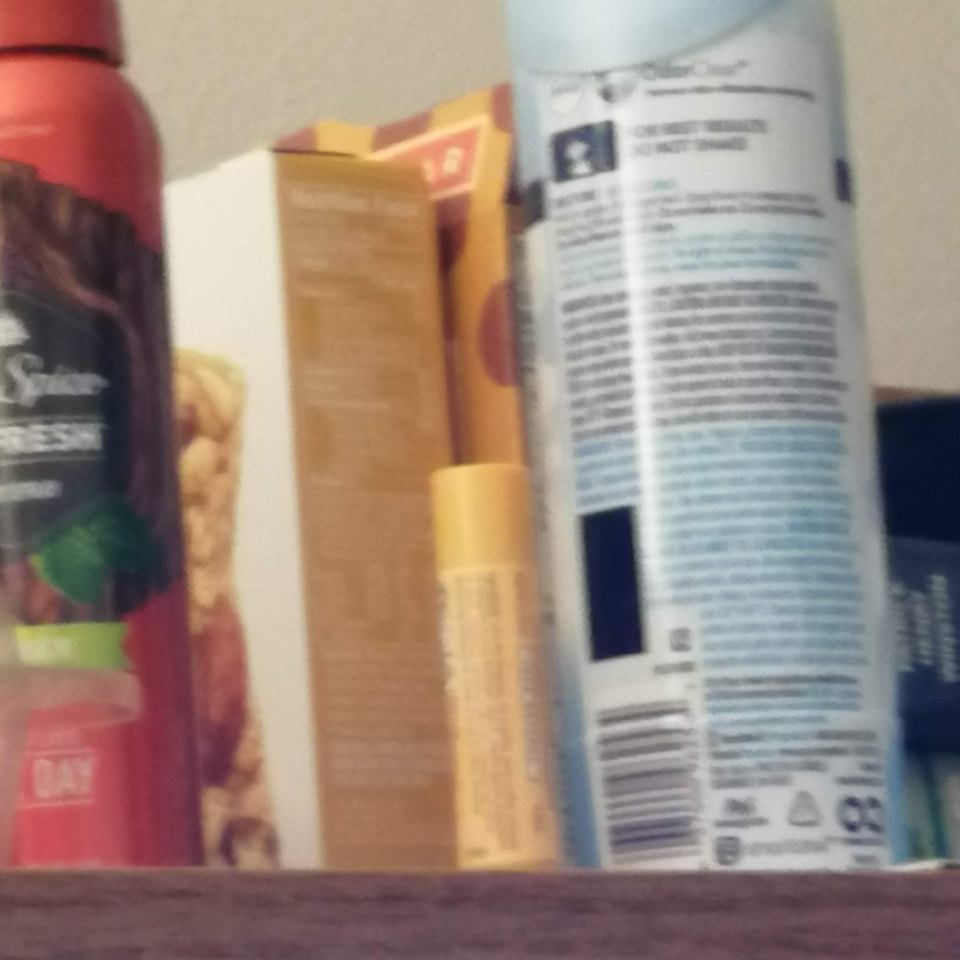chapstick: (428, 460, 571, 879)
